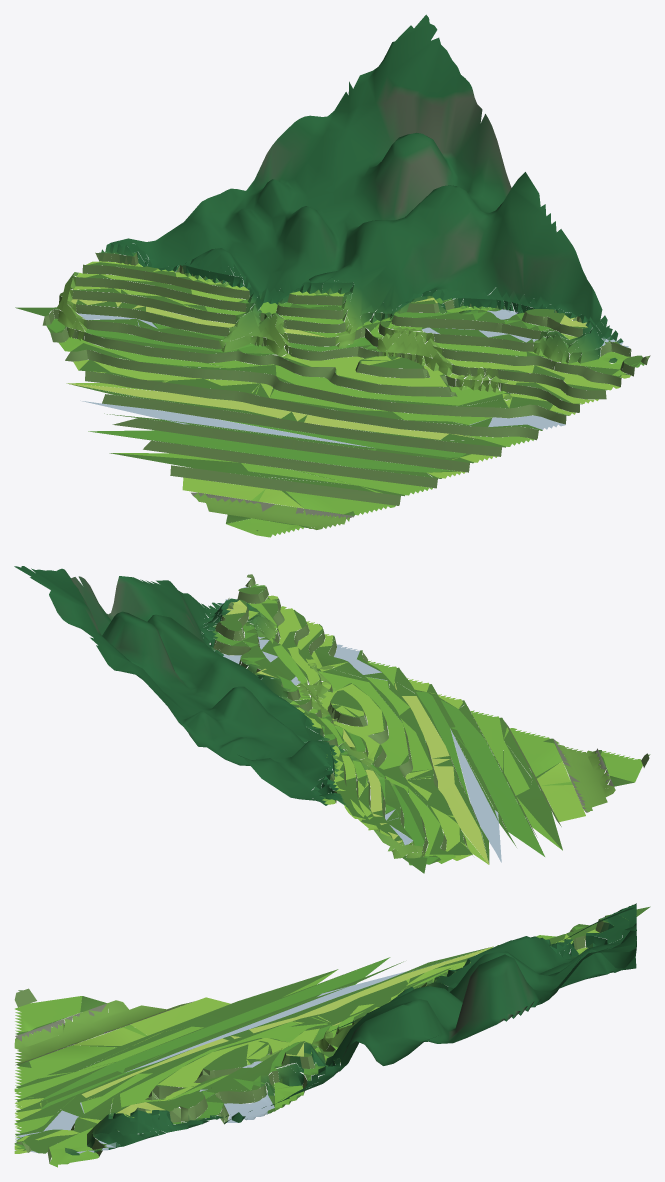
Rendered from payo_land_xm2_y4_lod1.glb.
3 renders of one model, top to bottom at view 1: azimuth 30°, elevation 25°; view 2: azimuth 150°, elevation 25°; view 3: azimuth 270°, elevation 25°, orthographic. The views are drawn at different scales.
Parts seen in each view (by area): view 1: payo_land_xm2_y4; view 2: payo_land_xm2_y4; view 3: payo_land_xm2_y4.
Part boxes in pixels (box(x1,y1,x2,y2)): payo_land_xm2_y4: box(15, 14, 650, 537); payo_land_xm2_y4: box(14, 566, 650, 873); payo_land_xm2_y4: box(14, 903, 650, 1167).
Bounding box in the file's own units: 282 × 166 × 264.
